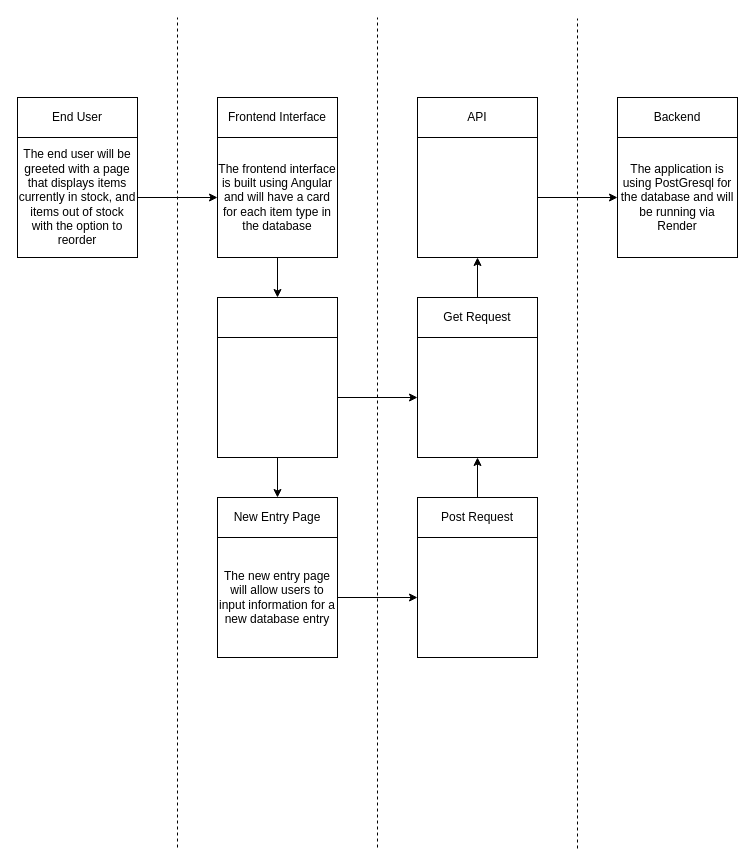
The diagram is 755 pixels wide and 867 high, and some of its shapes have lost their labels. Each missing label, with the centre of its shape:
"- NAME - MSRP - CURRENT INV" belongs at (x=477, y=397).
"- NAME - TYPE - CURRENT INV - ORDER PRICE - MSRP" belongs at (x=477, y=597).
"Each card will display the item name, price, and inventory from the database" belongs at (x=277, y=397).
"Item Card" belongs at (x=277, y=317).
"The API is built with Node and Express" belongs at (x=477, y=197).
